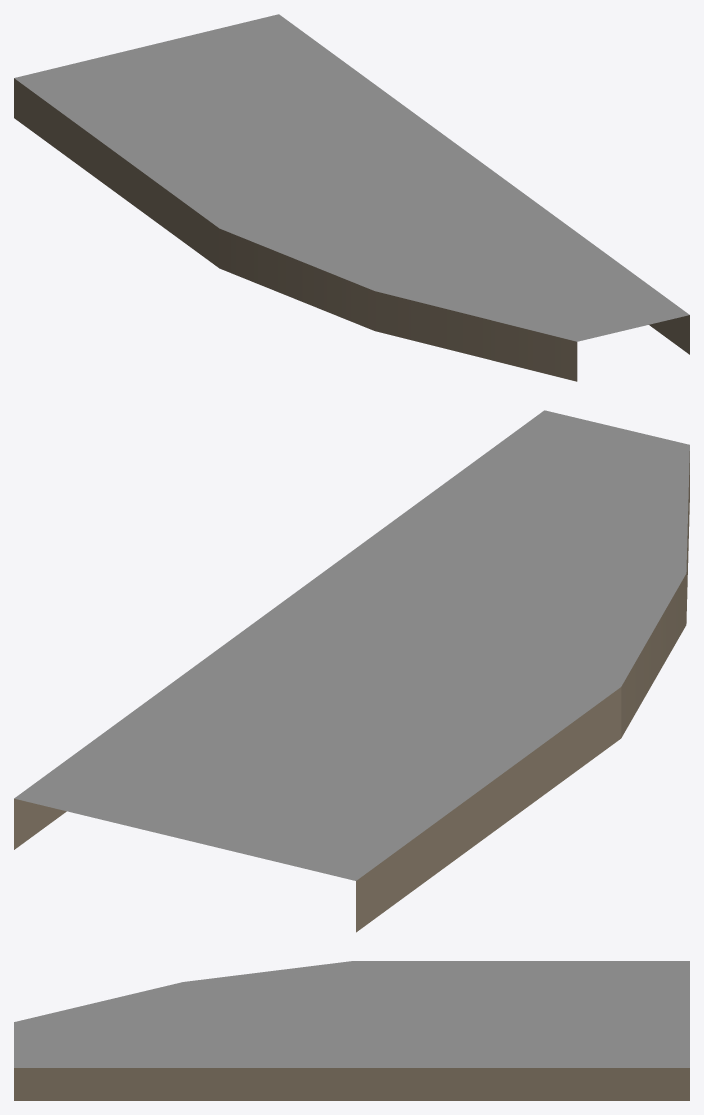
Rendered from env_platform_1_front.fbx.
3 renders of one model, top to bottom at view 1: azimuth 30°, elevation 25°; view 2: azimuth 150°, elevation 25°; view 3: azimuth 270°, elevation 25°, orthographic. The views are drawn at different scales.
Parts seen in each view (by area): view 1: platform_1_front; view 2: platform_1_front; view 3: platform_1_front.
Boxes of the visible parts, x1,y1,x2,y2 form: platform_1_front: [14, 14, 689, 381]; platform_1_front: [14, 410, 689, 932]; platform_1_front: [14, 961, 689, 1100].
Size of the model in its own units: 1513 by 222 by 4066.
1 material, 1 textured.
